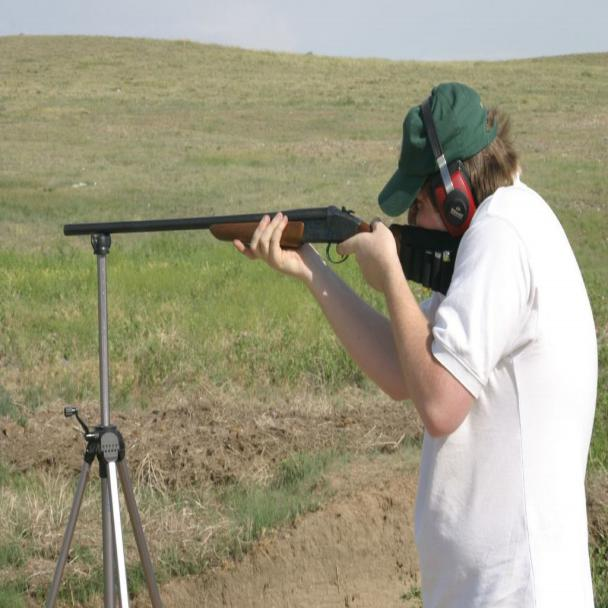Gun: (52, 199, 468, 297)
Hand: (231, 206, 341, 320), (337, 217, 416, 305)
